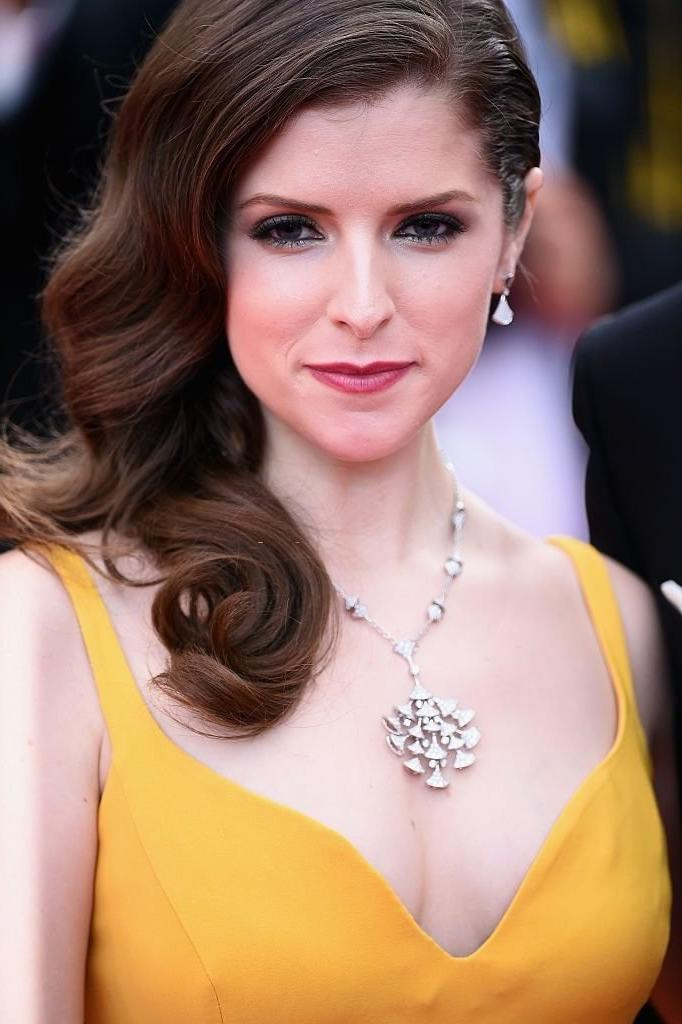Sober: (203, 110, 509, 415)
